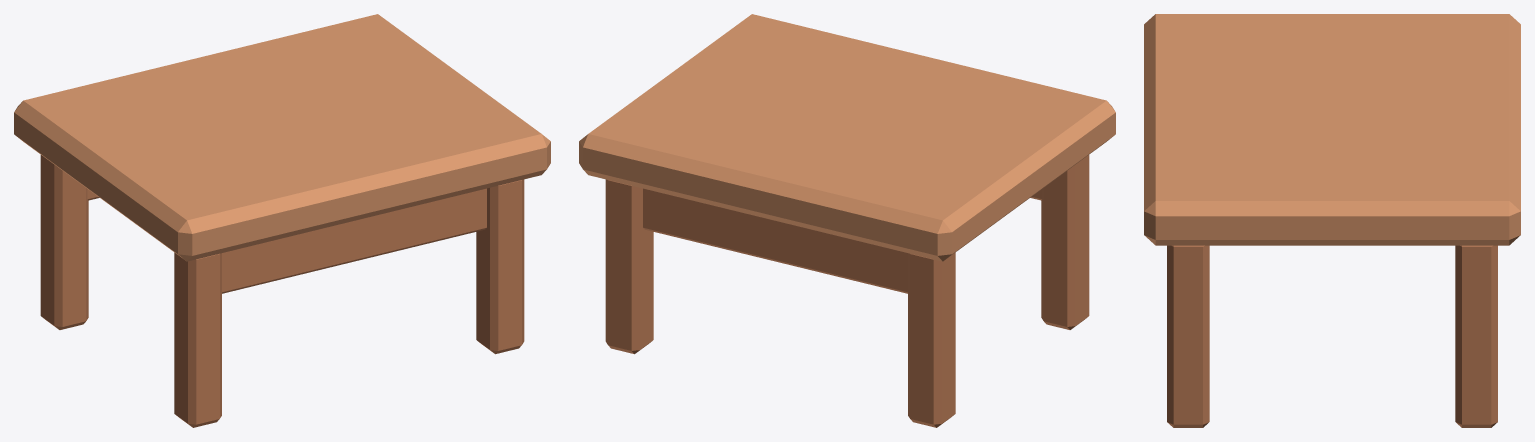
Rendered from _Low_Table.fbx.
3 renders of one model, left to right at view 1: azimuth 30°, elevation 25°; view 2: azimuth 150°, elevation 25°; view 3: azimuth 270°, elevation 25°, orthographic. The views are drawn at different scales.
Parts seen in each view (by area): view 1: 13_Low_Table / Thick top, 13_Low_Table / Apron, 13_Low_Table / Leg, 13_Low_Table / Leg.002, 13_Low_Table / Leg.001; view 2: 13_Low_Table / Thick top, 13_Low_Table / Apron.001, 13_Low_Table / Leg.001, 13_Low_Table / Leg.003, 13_Low_Table / Leg; view 3: 13_Low_Table / Thick top, 13_Low_Table / Leg.002, 13_Low_Table / Leg.003.
Boxes of the visible parts, x1,y1,x2,y2 form: 13_Low_Table / Thick top: (14, 14, 550, 261); 13_Low_Table / Apron: (222, 188, 486, 293); 13_Low_Table / Leg: (174, 252, 221, 427); 13_Low_Table / Leg.002: (476, 179, 524, 354); 13_Low_Table / Leg.001: (40, 155, 88, 329); 13_Low_Table / Thick top: (579, 14, 1115, 261); 13_Low_Table / Apron.001: (643, 188, 907, 293); 13_Low_Table / Leg.001: (908, 252, 955, 427); 13_Low_Table / Leg.003: (605, 179, 653, 354); 13_Low_Table / Leg: (1041, 155, 1089, 329); 13_Low_Table / Thick top: (1144, 14, 1520, 245); 13_Low_Table / Leg.002: (1167, 245, 1209, 427); 13_Low_Table / Leg.003: (1455, 245, 1497, 427).
Bounding box in the file's own units: 142 × 79 × 115.
